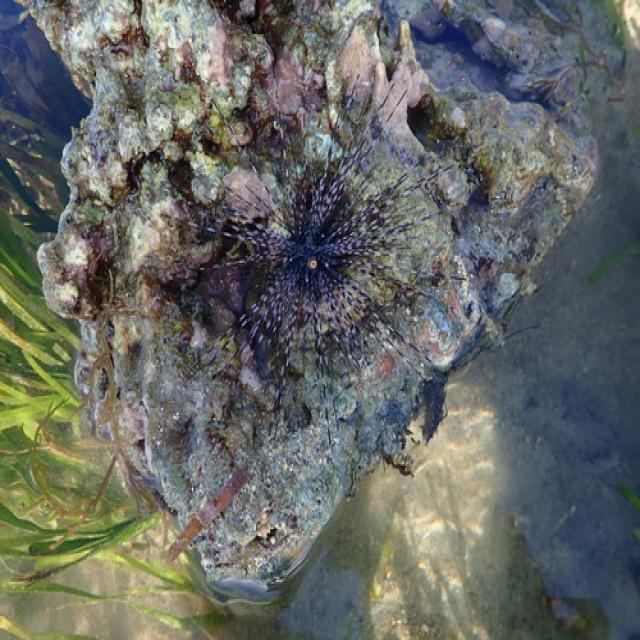Urchin: (173, 67, 463, 430)
